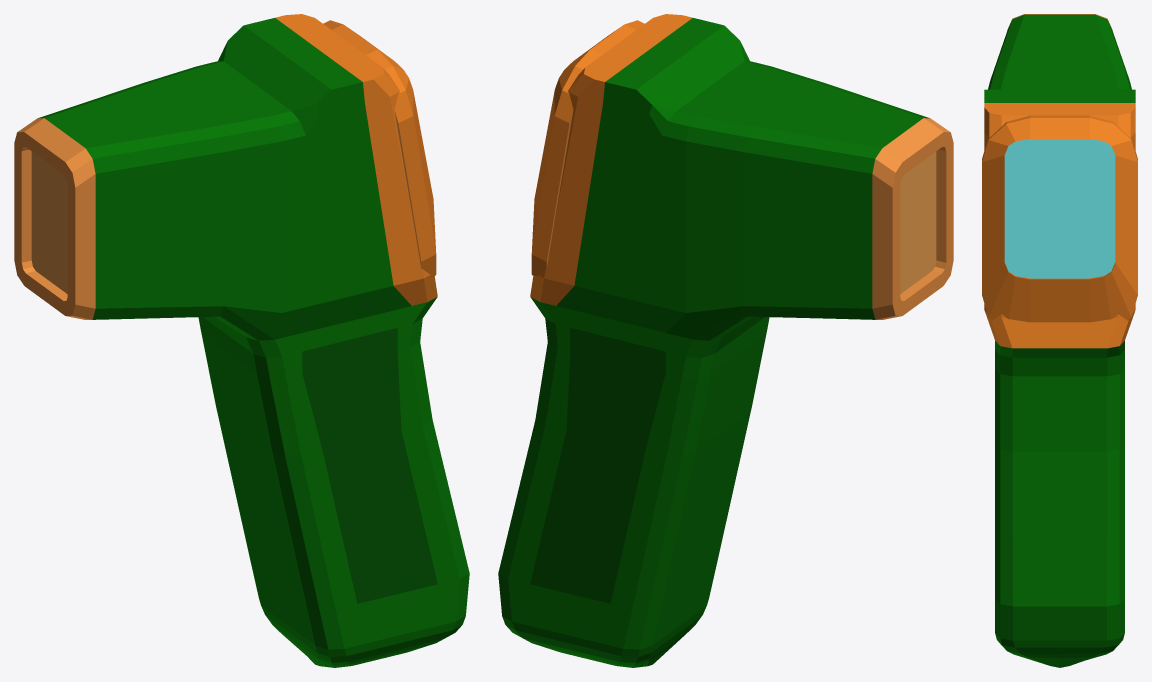
File: SM_Termomiter_Gun.fbx
3 views of the same model, side by side, from view 1: azimuth 30°, elevation 25°; view 2: azimuth 150°, elevation 25°; view 3: azimuth 270°, elevation 25° (orthographic). The views are drawn at different scales.
Parts seen in each view (by area): view 1: Termomiter_Gun_mash; view 2: Termomiter_Gun_mash; view 3: Termomiter_Gun_mash.
Boxes of the visible parts, left/top/right/bottom form: Termomiter_Gun_mash: left=14, top=14, right=469, bottom=667; Termomiter_Gun_mash: left=498, top=14, right=953, bottom=667; Termomiter_Gun_mash: left=982, top=14, right=1137, bottom=667.
Bounding box in the file's own units: 0.1683 × 0.2507 × 0.0669.
